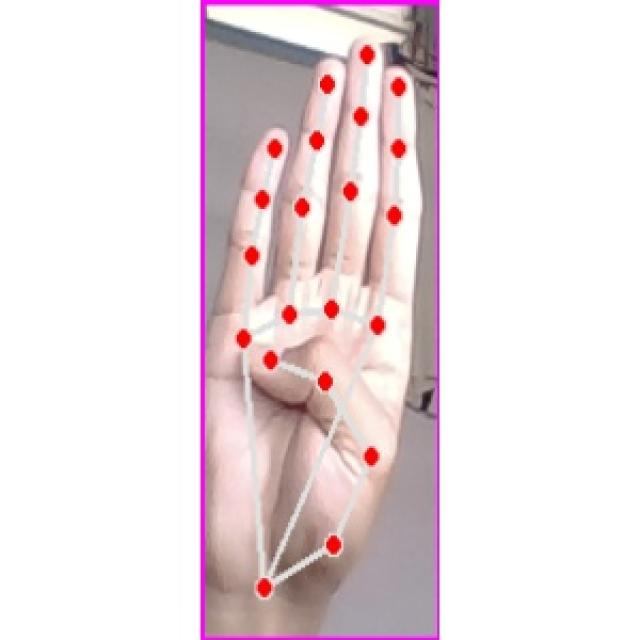B: (212, 28, 429, 606)
